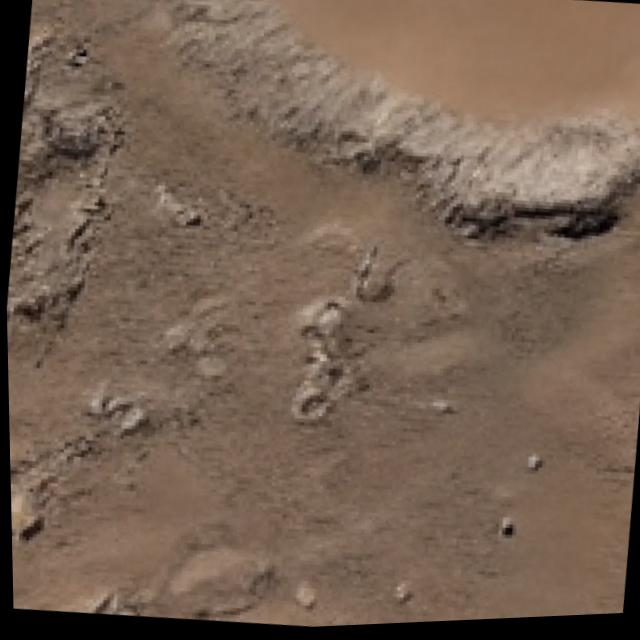Crater: (20, 0, 640, 273)
